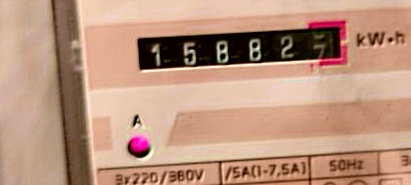1: (150, 42, 165, 68)
2: (279, 34, 296, 59)
5: (182, 40, 199, 66)
7: (313, 41, 328, 60)
8: (215, 39, 232, 66), (248, 37, 264, 62)
screen: (123, 12, 358, 86)
